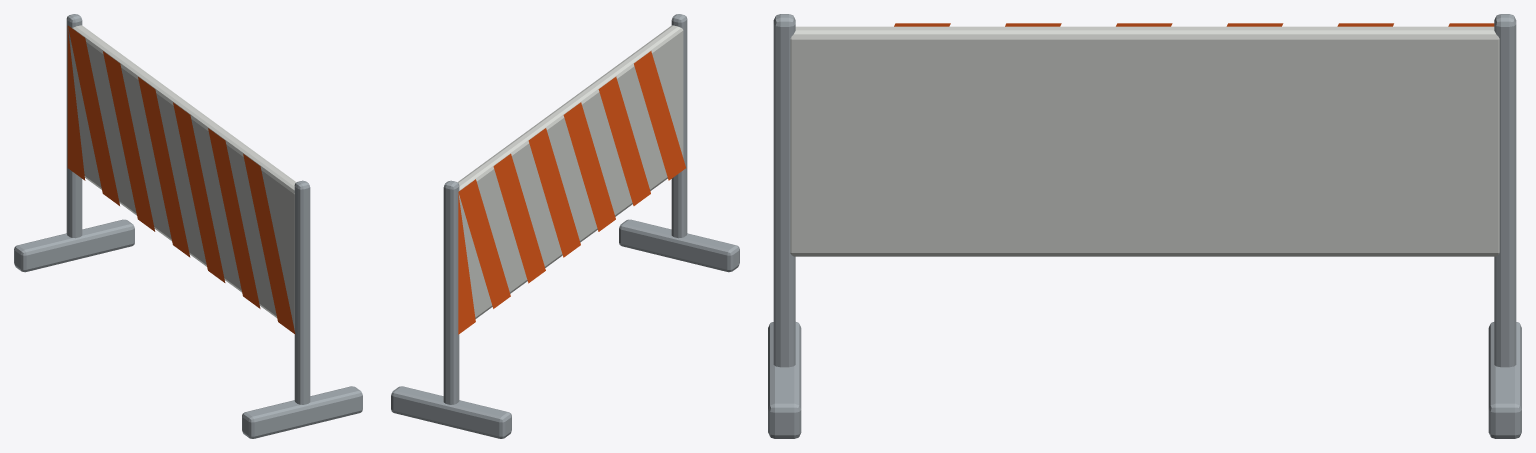
Rendered from work-barrier.glb.
The picture shows the model from 3 angles, left to right: view 1: azimuth 30°, elevation 25°; view 2: azimuth 150°, elevation 25°; view 3: azimuth 270°, elevation 25°; orthographic projection. The views are drawn at different scales.
Parts seen in each view (by area): view 1: Reflective board, Steel upright, Stable foot, Stable foot.001, Diagonal stripe.001, Diagonal stripe, Diagonal stripe.003, Diagonal stripe.002, Diagonal stripe.005, Diagonal stripe.004, Steel upright.001, Diagonal stripe.006; view 2: Reflective board, Steel upright.001, Stable foot.001, Stable foot, Diagonal stripe.004, Diagonal stripe, Diagonal stripe.002, Diagonal stripe.003, Diagonal stripe.001, Diagonal stripe.005, Steel upright, Diagonal stripe.006; view 3: Reflective board, Steel upright, Steel upright.001, Stable foot, Stable foot.001.
Boxes of the visible parts, x1,y1,x2,y2 form: Reflective board: [70, 25, 296, 329]; Steel upright: [294, 180, 310, 404]; Stable foot: [242, 386, 362, 438]; Stable foot.001: [14, 219, 134, 272]; Diagonal stripe.001: [208, 128, 260, 308]; Diagonal stripe: [243, 153, 295, 334]; Diagonal stripe.003: [138, 77, 190, 257]; Diagonal stripe.002: [173, 102, 225, 282]; Diagonal stripe.005: [68, 25, 119, 205]; Diagonal stripe.004: [103, 51, 155, 231]; Steel upright.001: [66, 14, 82, 238]; Diagonal stripe.006: [67, 26, 85, 180]; Reflective board: [457, 25, 683, 318]; Steel upright.001: [443, 180, 459, 404]; Stable foot.001: [391, 386, 511, 438]; Stable foot: [619, 219, 739, 272]; Diagonal stripe.004: [493, 153, 545, 283]; Diagonal stripe: [634, 51, 685, 180]; Diagonal stripe.002: [563, 102, 615, 231]; Diagonal stripe.003: [528, 128, 580, 257]; Diagonal stripe.001: [598, 76, 650, 205]; Diagonal stripe.005: [458, 179, 510, 308]; Steel upright: [671, 14, 687, 238]; Diagonal stripe.006: [458, 193, 475, 334]; Reflective board: [790, 26, 1499, 256]; Steel upright: [773, 14, 795, 367]; Steel upright.001: [1494, 14, 1516, 367]; Stable foot: [768, 322, 801, 438]; Stable foot.001: [1488, 322, 1521, 438].
Bounding box in the file's own units: 0.75 × 1.52 × 2.72.
